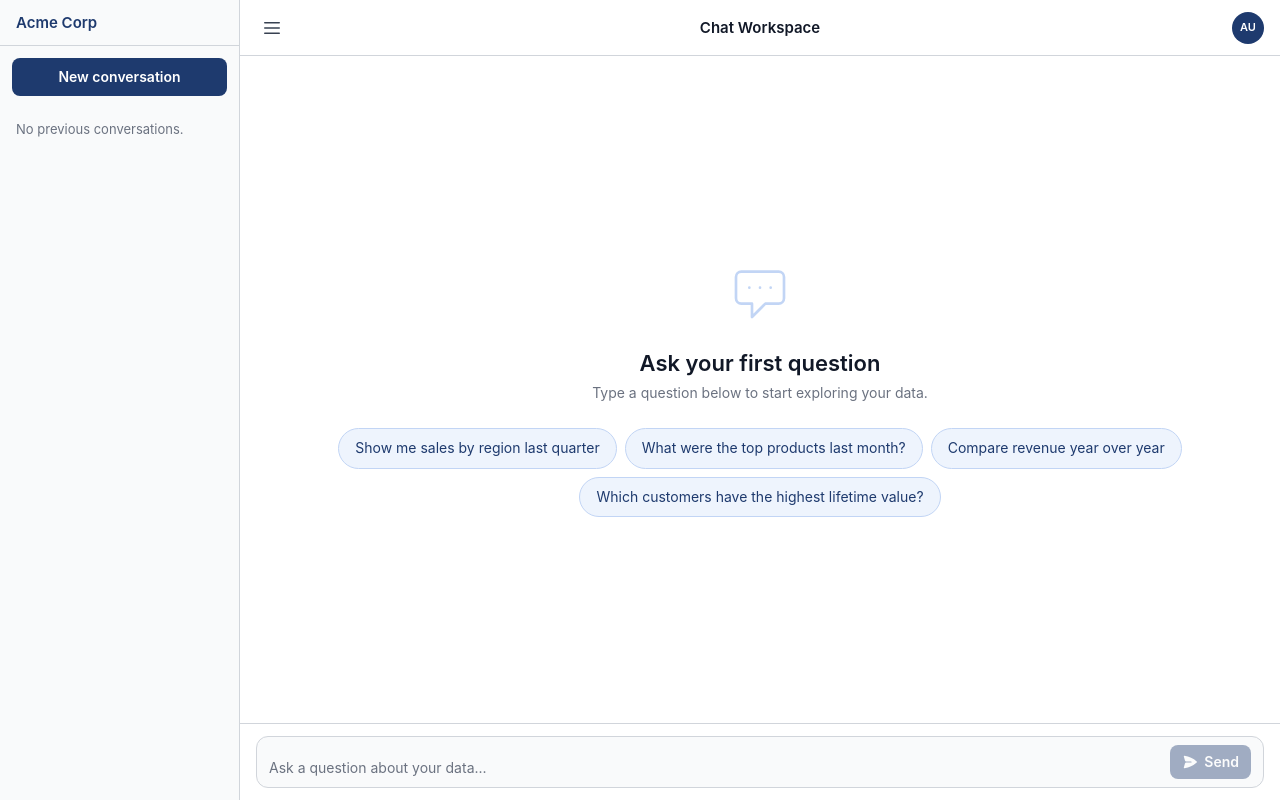
ChatPage — welcome state › fills input bar when chip is clicked
Click the button "Show me sales by region last quarter" at [478, 449], box [338, 428, 617, 469]
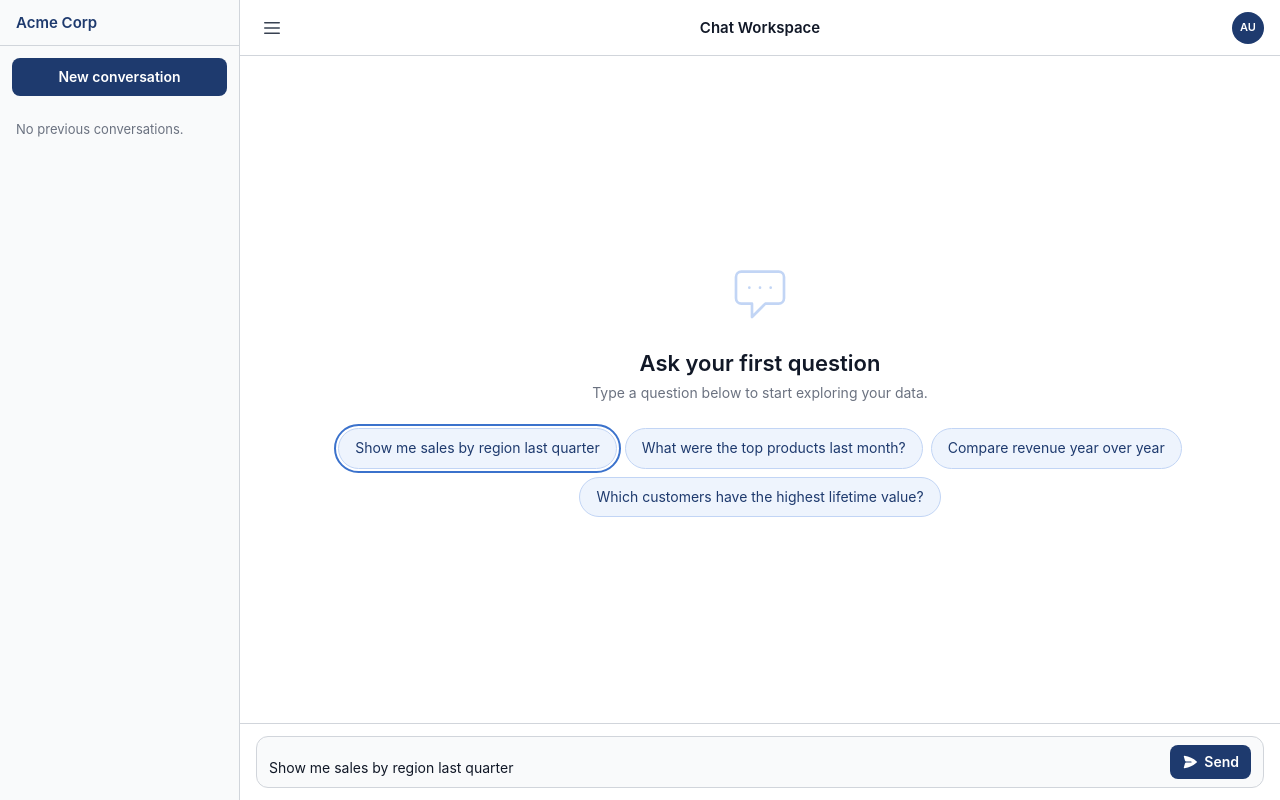
Check: the text box named "message input" holds "Show me sales by region last quarter", box [269, 757, 1158, 779]
